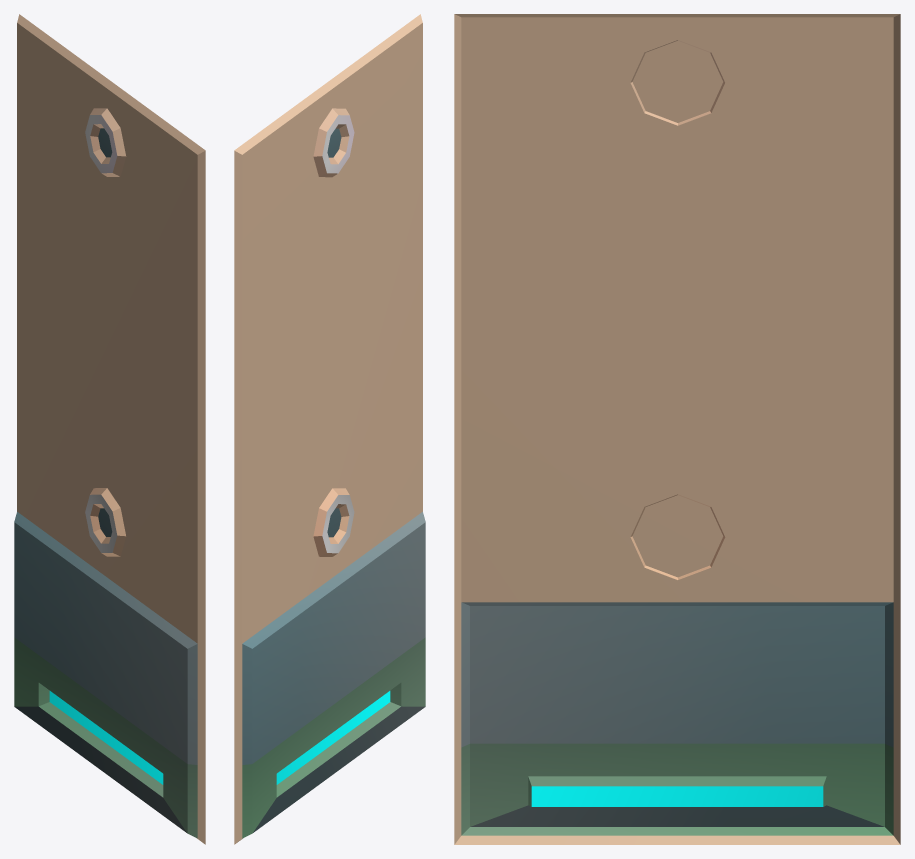
Rendered from R_Wall_tapered.fbx.
3 views of the same model, side by side, from view 1: azimuth 30°, elevation 25°; view 2: azimuth 150°, elevation 25°; view 3: azimuth 270°, elevation 25° (orthographic). The views are drawn at different scales.
Visible parts, largest first — view 1: R_Wall_tapered; view 2: R_Wall_tapered; view 3: R_Wall_tapered.
Boxes of the visible parts, <box> form: R_Wall_tapered: <box>14,14,205,844</box>; R_Wall_tapered: <box>234,14,425,844</box>; R_Wall_tapered: <box>454,14,900,844</box>.
Size of the model in its own units: 4.55 by 260 by 127.
